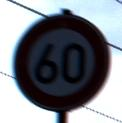Speed Limit -60-: (13, 13, 109, 111)
